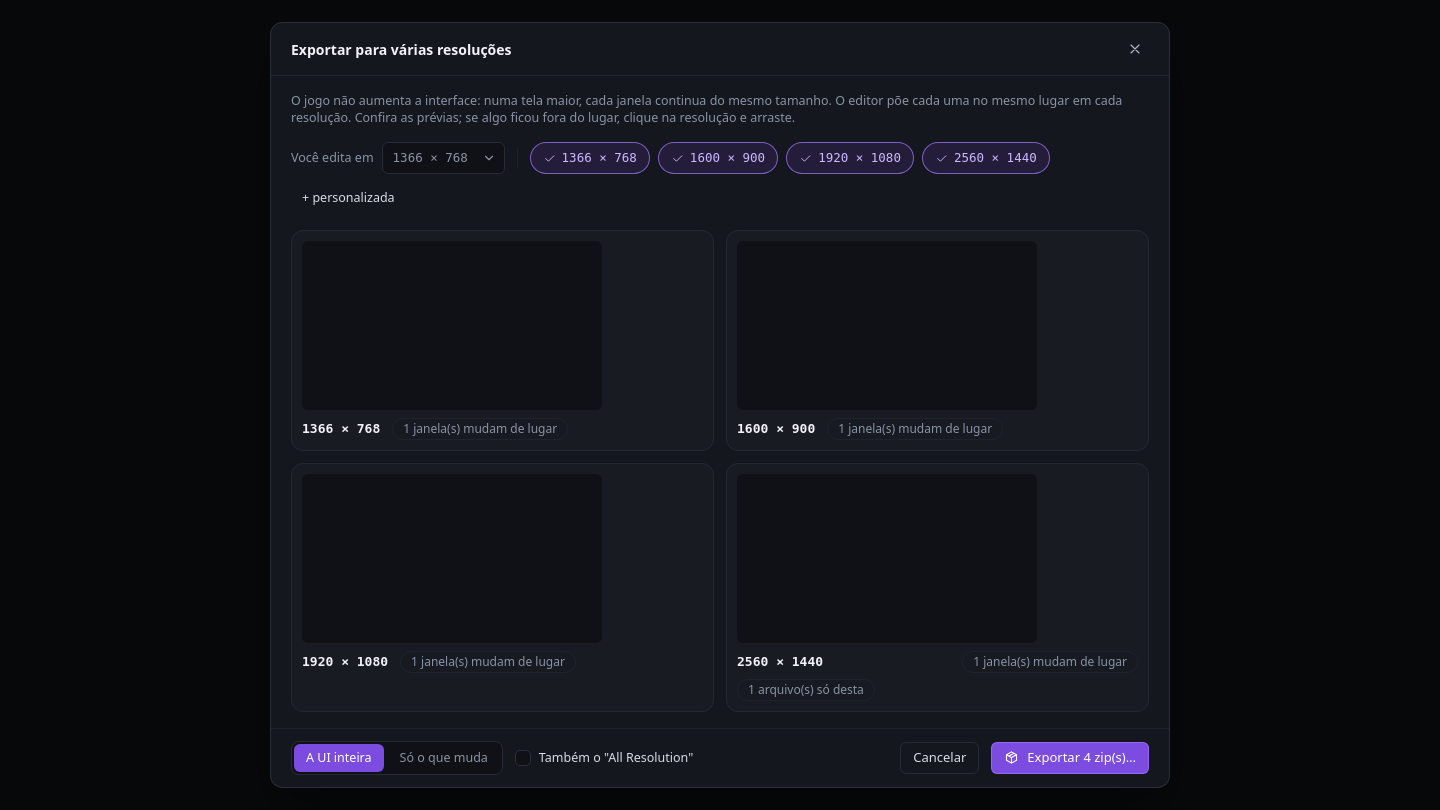
Scenario: exportar para várias resoluções › exporta um zip por resolução e avisa o que ficou igual
Later steps or results of the test are not shown.
Expected: the element with test id "resolutions-dialog" is shown, [291,92,1149,712]
Expected: the button with test id "resolution-card-2560x1440" is shown, [726,463,1149,712]
Click the radio button with test id "zip-changed". click: (444, 758)
box: [388,744,500,772]
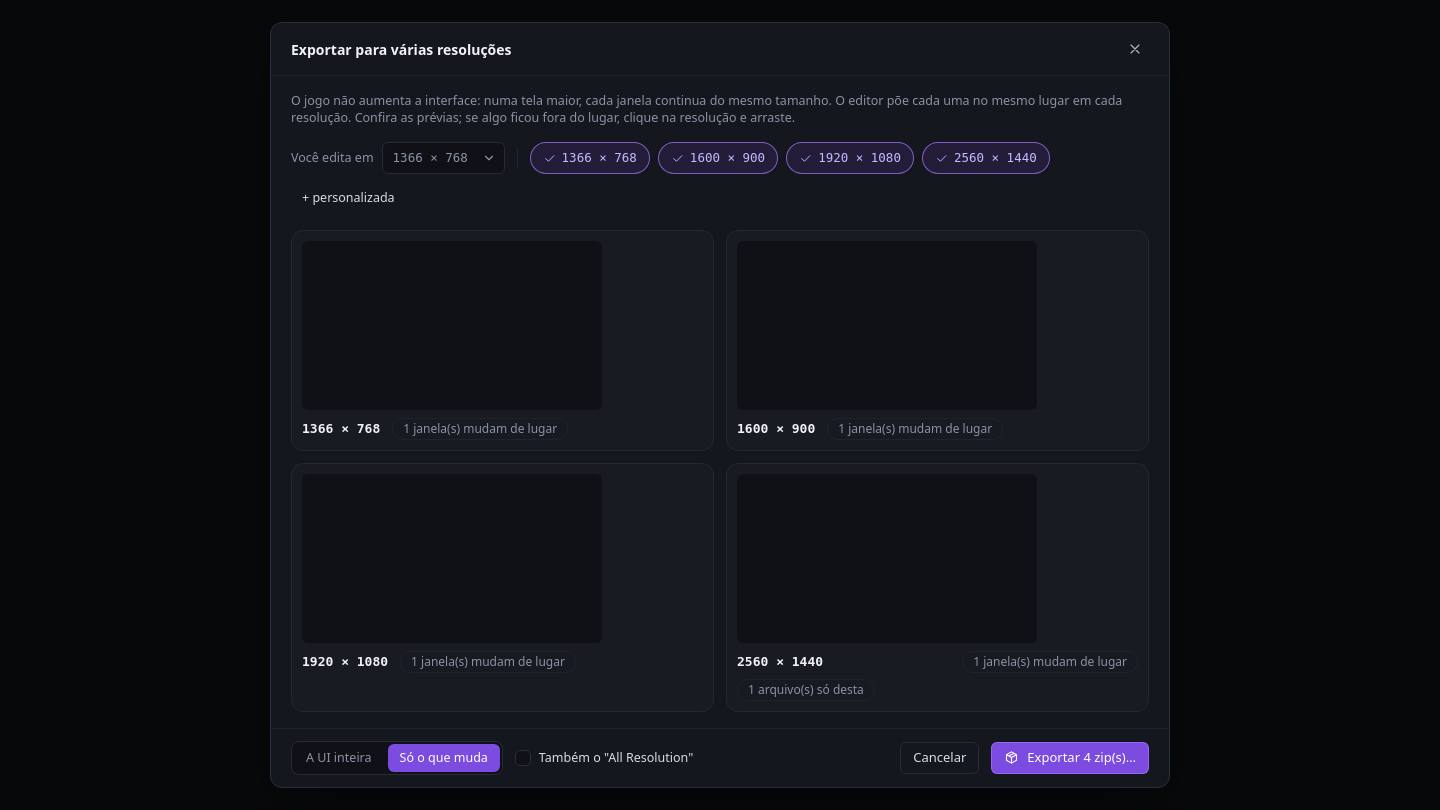
Click the checkbox with test id "zip-all". click: (523, 758)
box: [515,750,531,766]
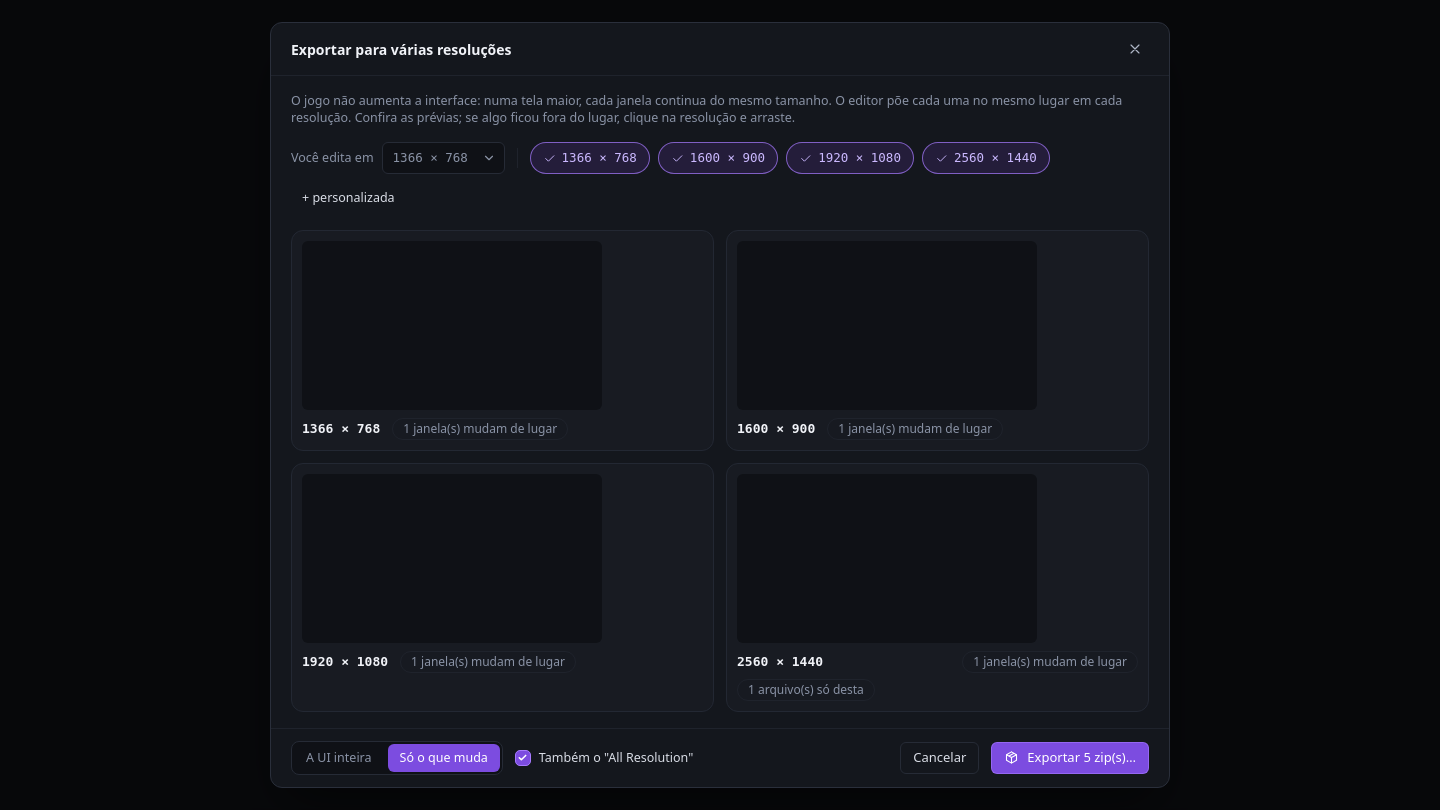
Now the button with test id "resolutions-export" shows "Exportar 5 zip(s)"
Click the button with test id "resolutions-export". click: (1070, 758)
box: [991,742,1149,774]
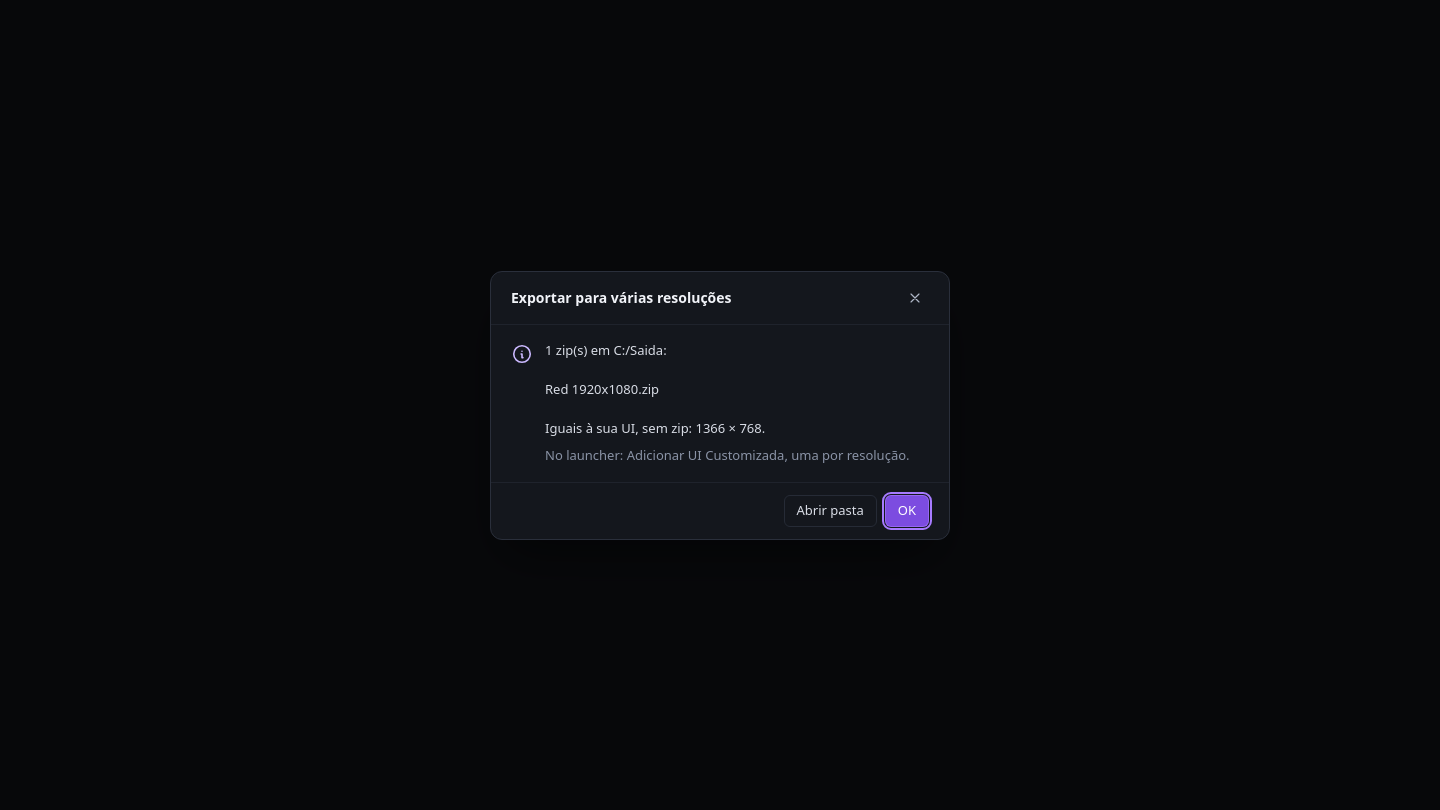
Now the text "1 zip(s) em C:/Saida" shows "Red 1920x1080.zip", box [545,340,765,436]
Now the element with test id "resolutions-dialog" is gone
